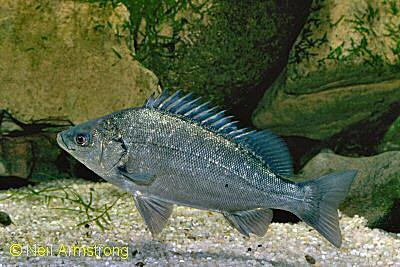Silver Perch: (54, 95, 361, 251)
